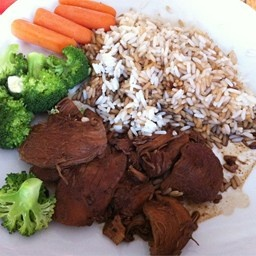background: (0, 0, 102, 102)
